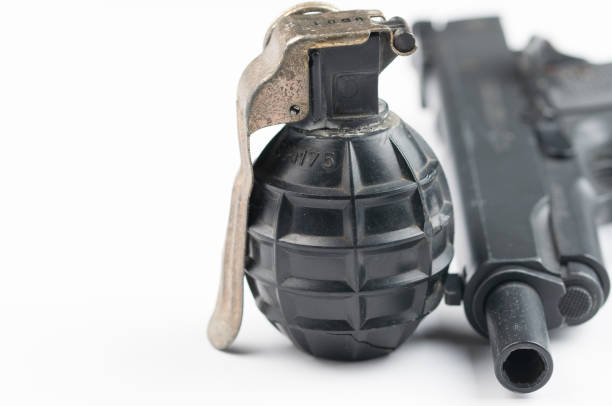e1: (205, 3, 457, 360)
